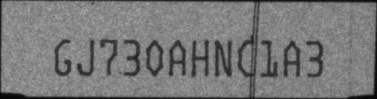1: (259, 39, 279, 78)
3: (306, 38, 324, 78), (123, 37, 141, 75)
7: (99, 38, 118, 76)
A: (167, 40, 187, 76), (283, 39, 300, 77)
C: (238, 36, 257, 77)
G: (53, 39, 72, 76)
H: (191, 37, 210, 77)
J: (77, 37, 95, 76)
N: (214, 38, 232, 78)
O: (144, 40, 163, 77)
